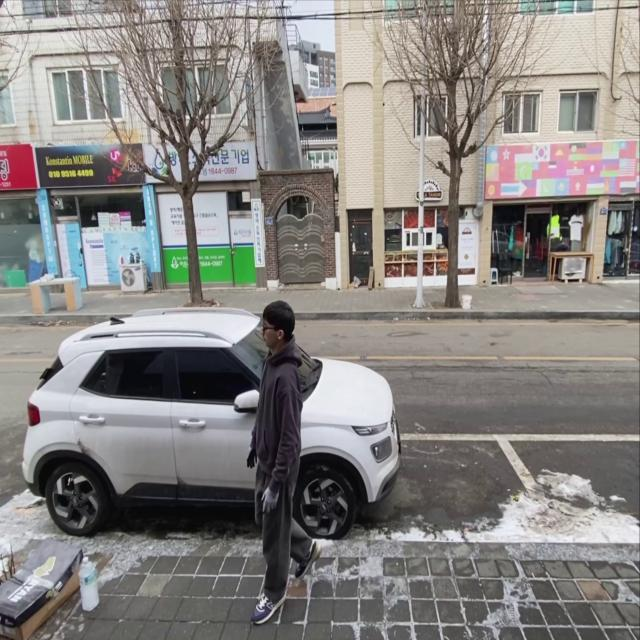gloved_hand: (260, 483, 282, 516), (242, 447, 261, 472)
